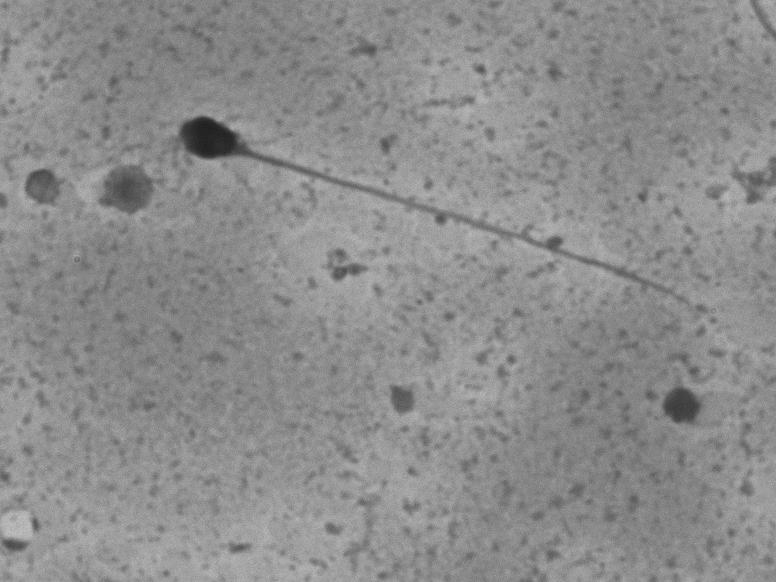Normal: (158, 104, 718, 333)
